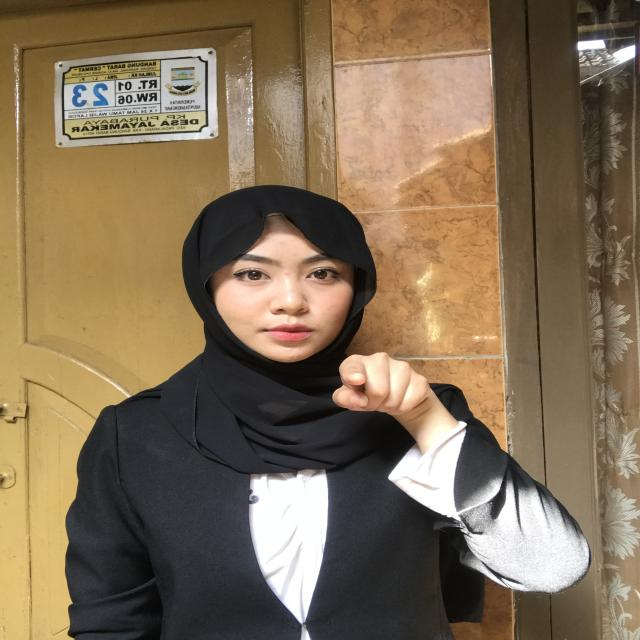kamu: (309, 336, 469, 441)
